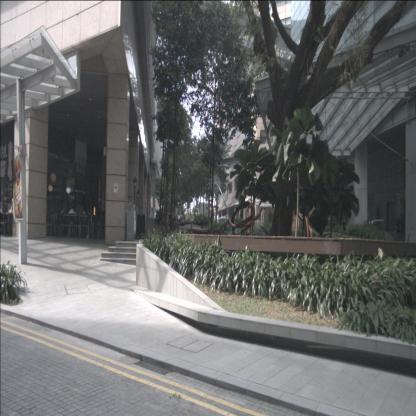human-pedestrian-adult: (7, 198, 17, 236), (68, 204, 76, 236), (78, 206, 86, 236), (61, 205, 68, 237)
